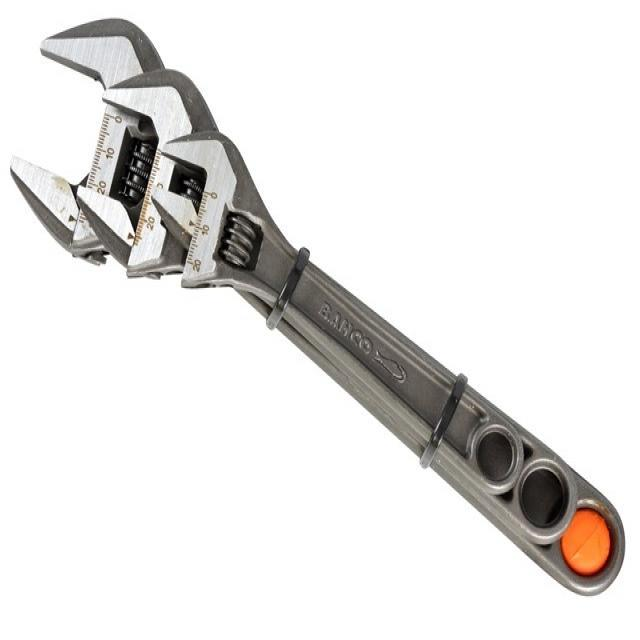wrench: (5, 15, 628, 600)
